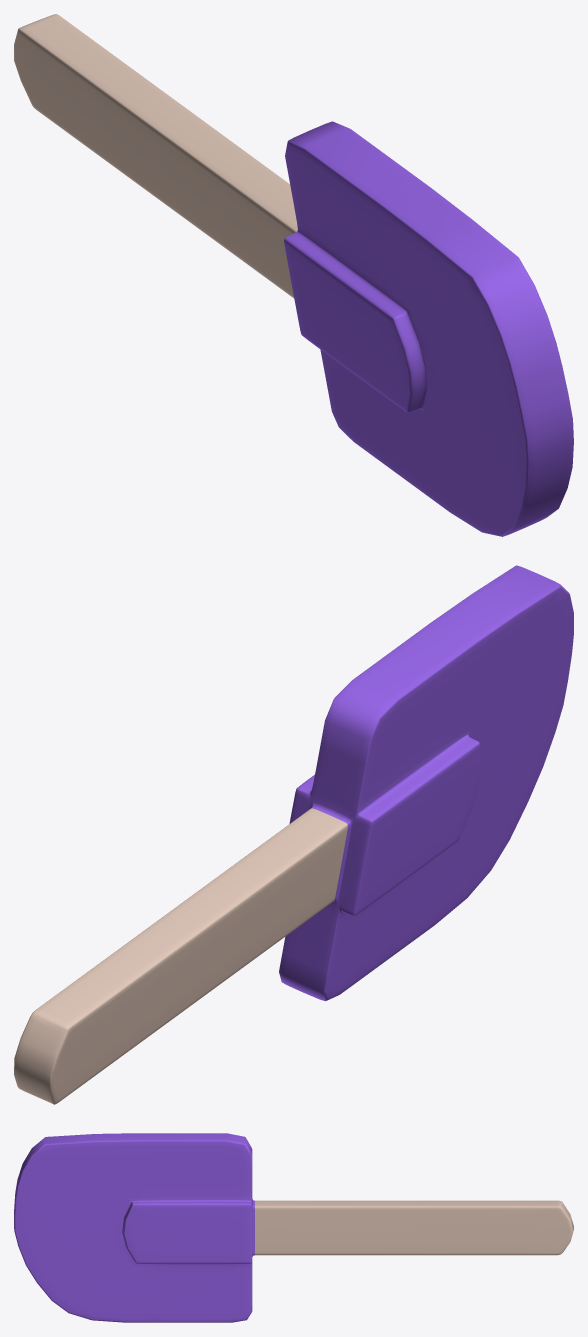
The model's file is spatula.fbx.
The picture shows the model from 3 angles, top to bottom: view 1: azimuth 30°, elevation 25°; view 2: azimuth 150°, elevation 25°; view 3: azimuth 270°, elevation 25°; orthographic projection. The views are drawn at different scales.
Visible parts, largest first — view 1: Spatula; view 2: Spatula; view 3: Spatula.
Part boxes in pixels (x1,y1,x2,y2): Spatula: (14,14,573,536); Spatula: (14,565,573,1104); Spatula: (14,1133,573,1322).
Size of the model in its own units: 0.3344 by 1.01 by 2.96.
